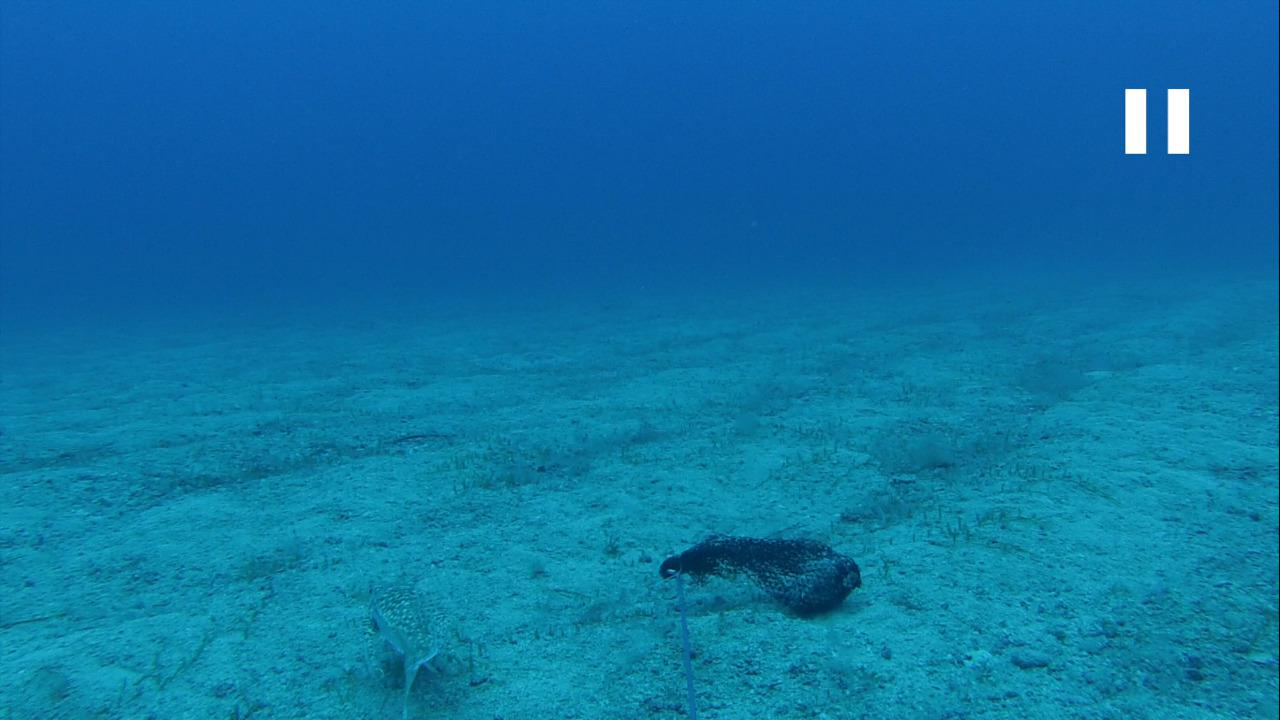dactylopterus: (342, 568, 484, 716)
